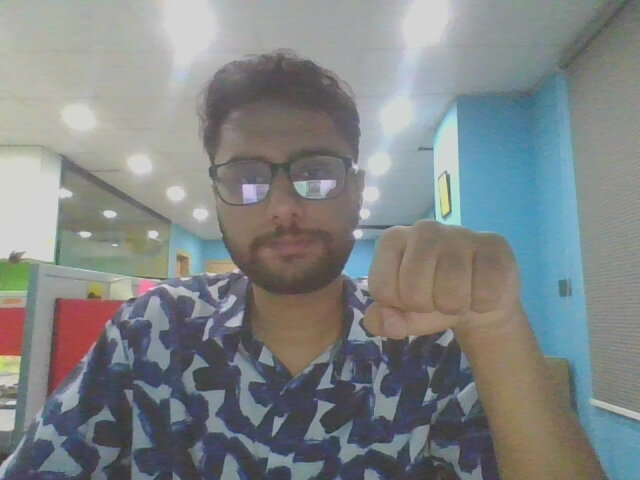yes: (363, 207, 547, 369)
